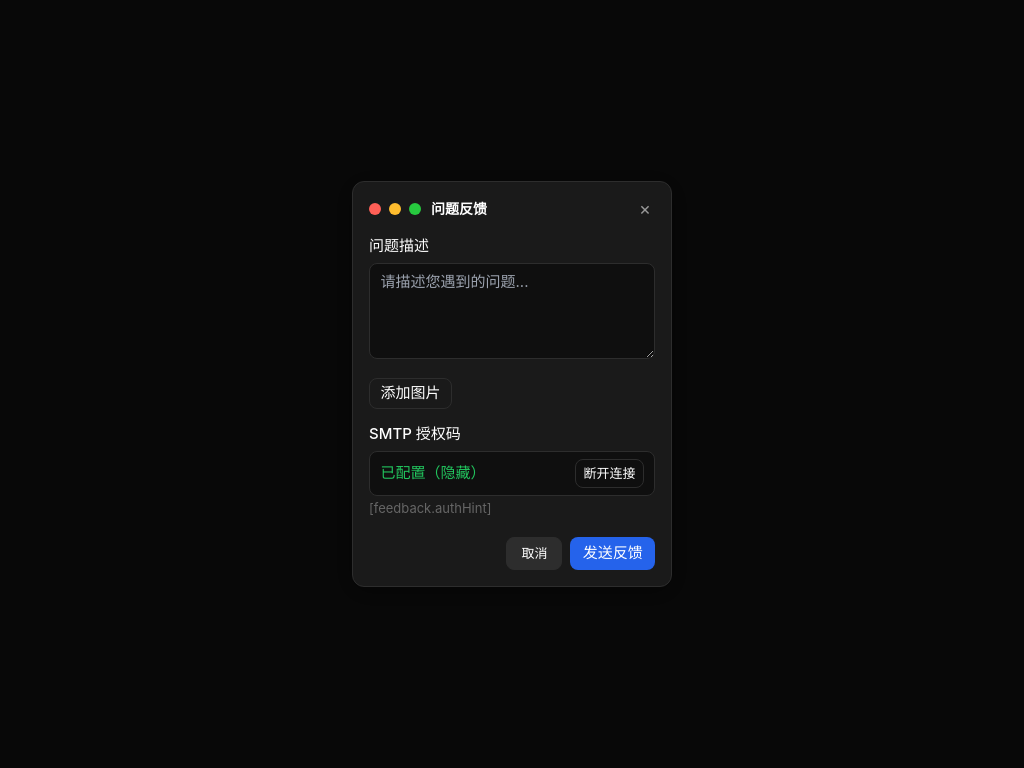
Test case: FeedbackModal › 发送失败（授权码错误）→ 分类文案 toast，不泄露原始 SMTP 细节
Type "x" into the text box labelled "问题描述" at (512, 311), box [369,263,655,359]
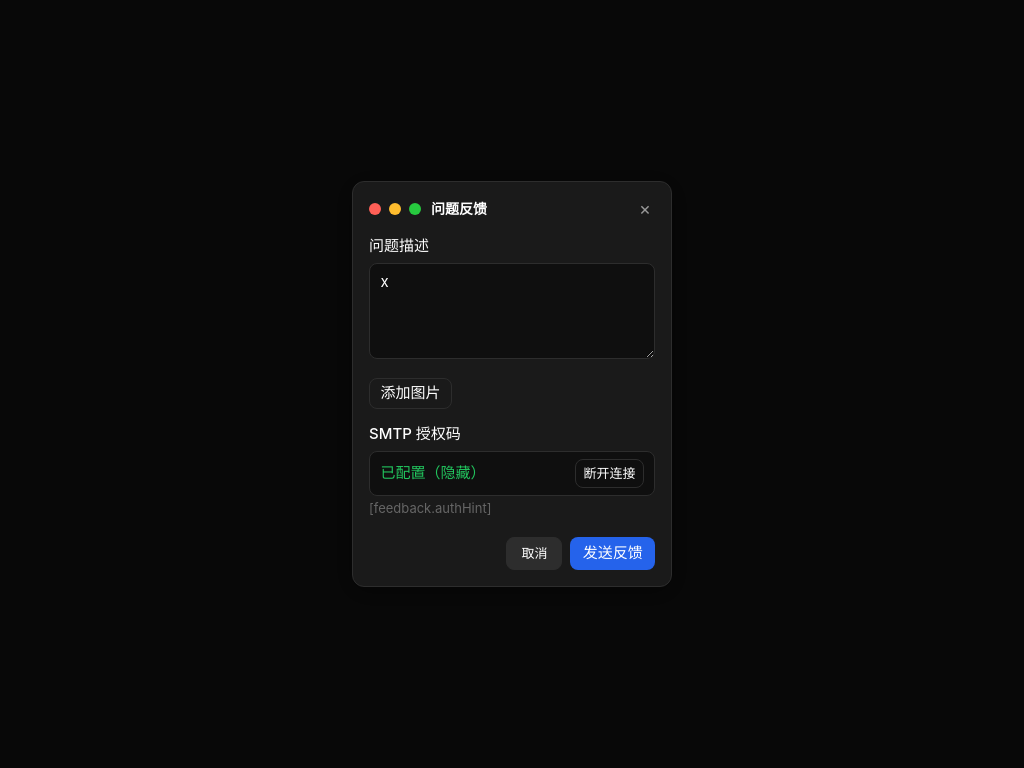
Click the button "发送反馈" at (613, 553), box [570,536,655,570]
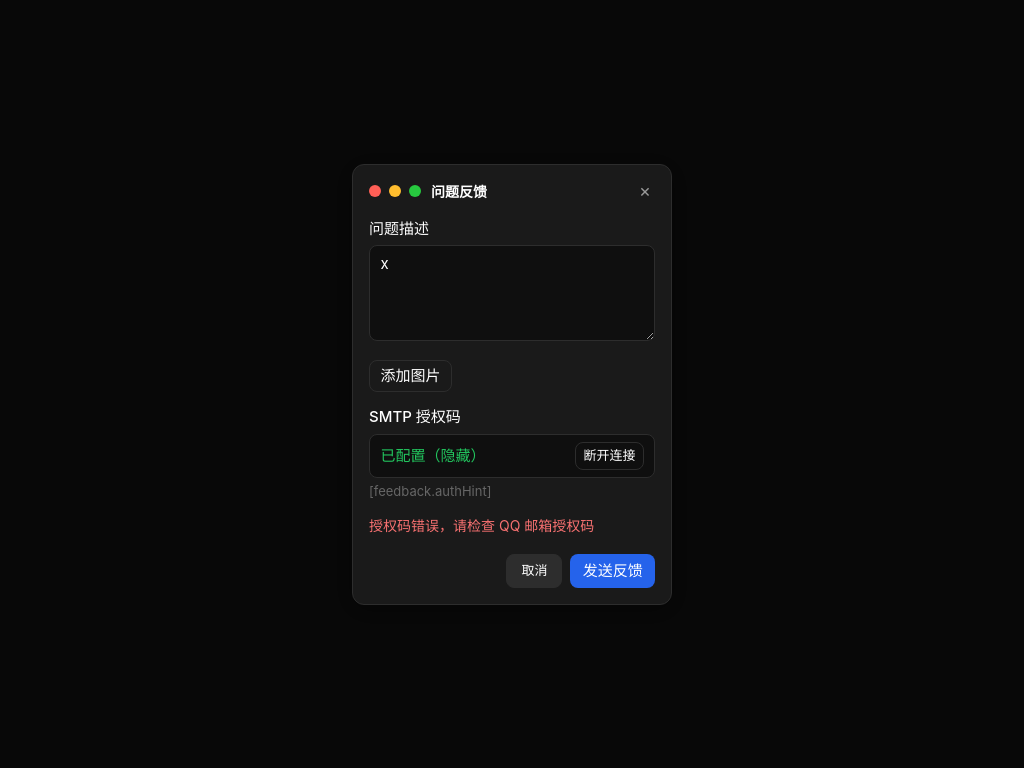
Expected: the text "授权码错误，请检查 QQ 邮箱授权码" is shown, [369,517,594,534]
